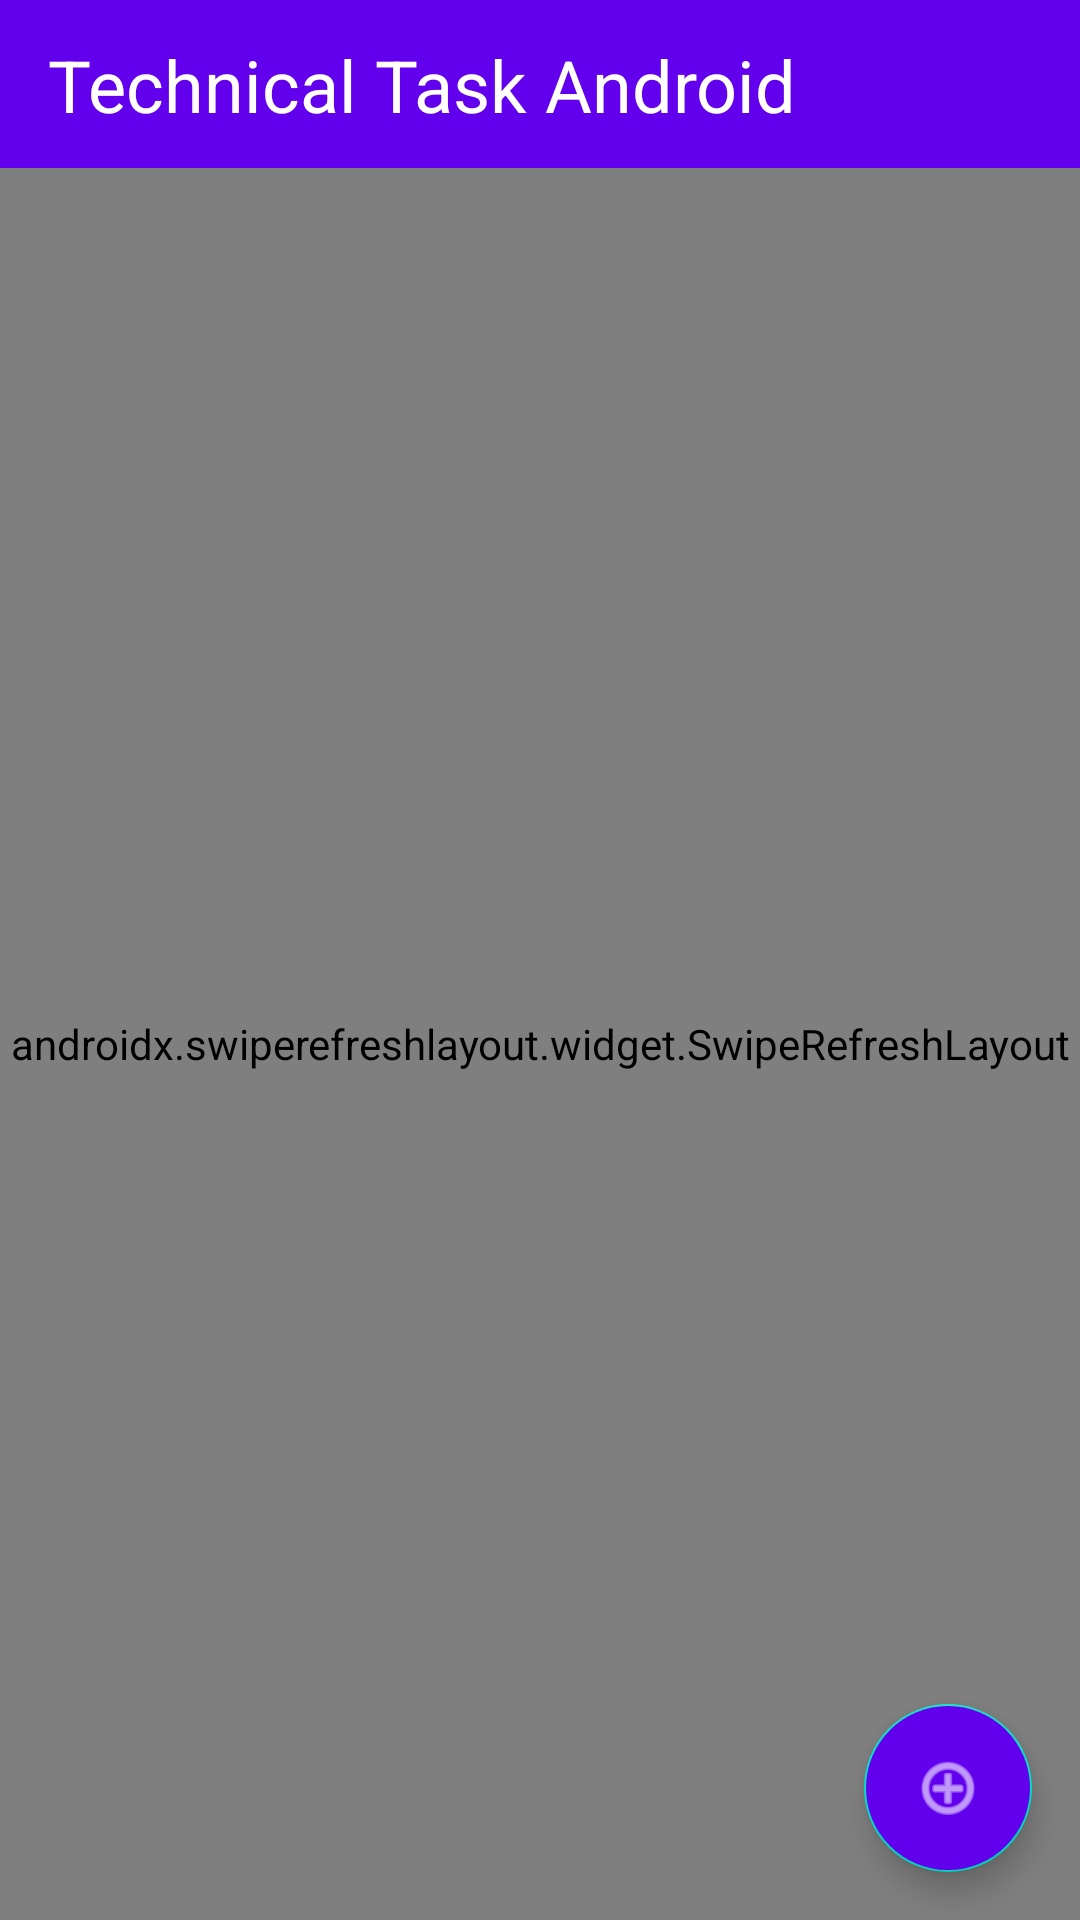

Icons on this 1080px×1920px Android screen, each with the point to tap as (x,y):
Add User: (948,1788)
